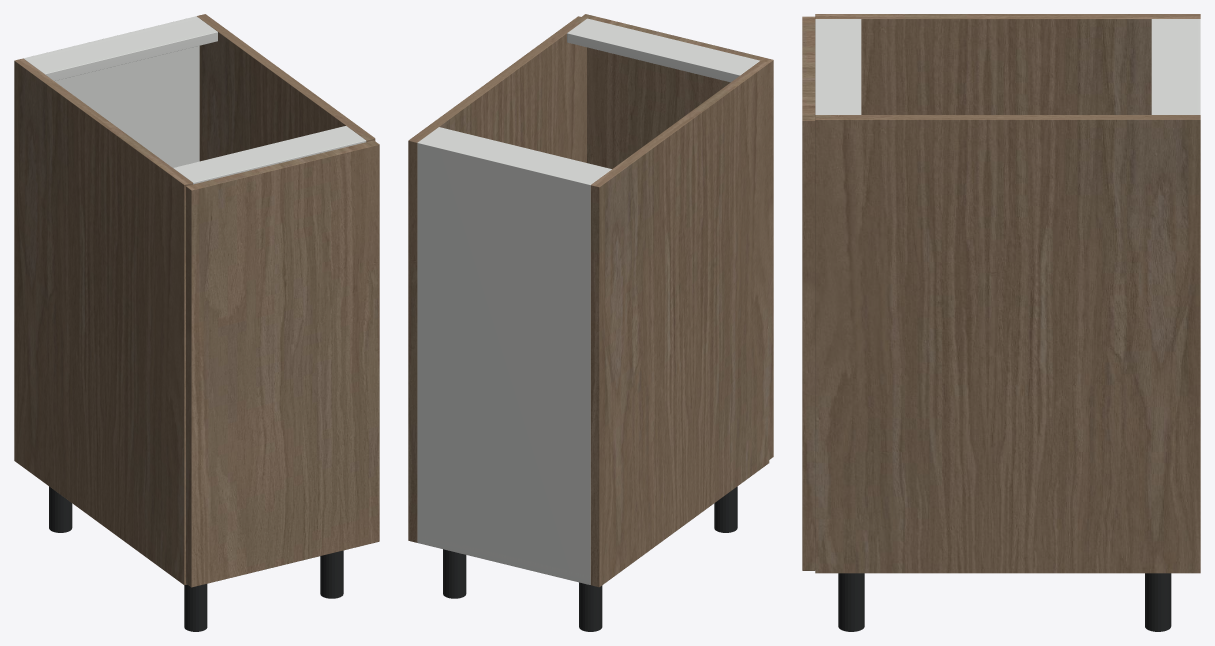
File: oppein-pb-mnw-b15fh.glb
The picture shows the model from 3 angles, left to right: view 1: azimuth 30°, elevation 25°; view 2: azimuth 150°, elevation 25°; view 3: azimuth 270°, elevation 25°; orthographic projection. The views are drawn at different scales.
Parts seen in each view (by area): view 1: Door, Cabinet side, Cabinet side.001, Cabinet back, Top support rail, Top support rail.001, Adjustable foot.001, Adjustable foot.003, Adjustable foot; view 2: Cabinet side, Cabinet back, Cabinet side.001, Door, Top support rail.001, Top support rail, Cabinet bottom, Adjustable foot, Adjustable foot.002, Adjustable foot.001; view 3: Cabinet side.001, Cabinet side, Door, Top support rail.001, Top support rail, Adjustable foot.002, Adjustable foot.003, Cabinet back.
Part boxes in pixels (box(x1,y1,x2,y2)): Door: box(186, 140, 379, 587); Cabinet side: box(14, 58, 192, 585); Cabinet side.001: box(197, 14, 375, 161); Cabinet back: box(23, 16, 199, 167); Top support rail: box(25, 18, 217, 80); Top support rail.001: box(173, 126, 366, 184); Adjustable foot.001: box(184, 584, 207, 631); Adjustable foot.003: box(320, 550, 343, 598); Adjustable foot: box(49, 486, 72, 532); Cabinet side: box(590, 60, 769, 587); Cabinet back: box(417, 140, 593, 584); Cabinet side.001: box(408, 16, 586, 542); Door: box(582, 14, 773, 459); Top support rail.001: box(567, 18, 759, 82); Top support rail: box(421, 127, 611, 182); Cabinet bottom: box(417, 538, 590, 584); Adjustable foot: box(579, 582, 602, 631); Adjustable foot.002: box(443, 549, 466, 598); Adjustable foot.001: box(714, 486, 737, 532); Cabinet side.001: box(815, 115, 1200, 573); Cabinet side: box(815, 14, 1200, 114); Door: box(802, 16, 815, 570); Top support rail.001: box(815, 19, 861, 114); Top support rail: box(1151, 19, 1193, 114); Adjustable foot.002: box(1145, 573, 1171, 631); Adjustable foot.003: box(838, 573, 864, 631); Cabinet back: box(1193, 19, 1200, 114).
Bounding box in the file's own units: 0.381 × 0.8763 × 0.6064.
3 materials, 1 textured.
